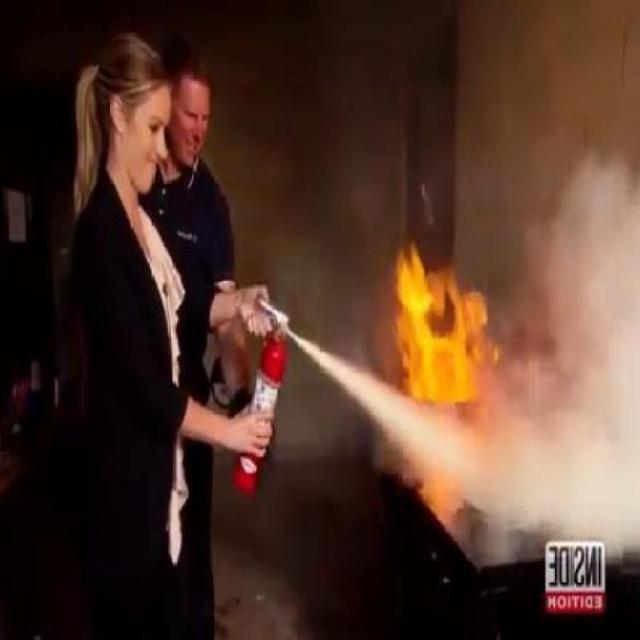fire: (489, 151, 640, 555)
smoke: (381, 248, 474, 397)
